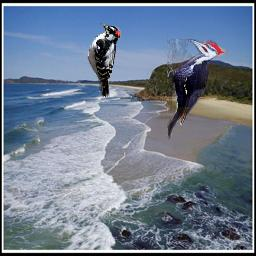Woodpecker: (167, 39, 228, 140), (87, 23, 122, 97)
